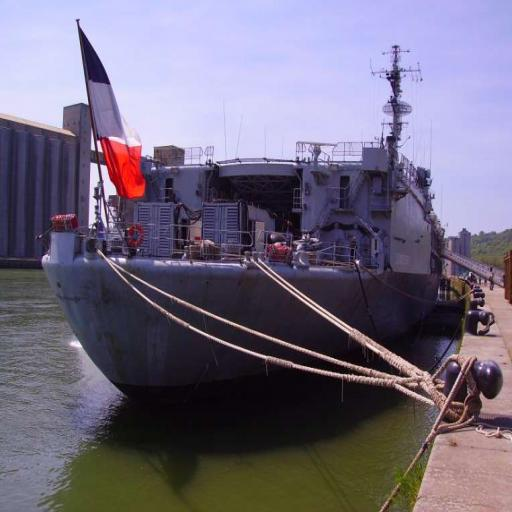Portanaves: (30, 18, 456, 420)
